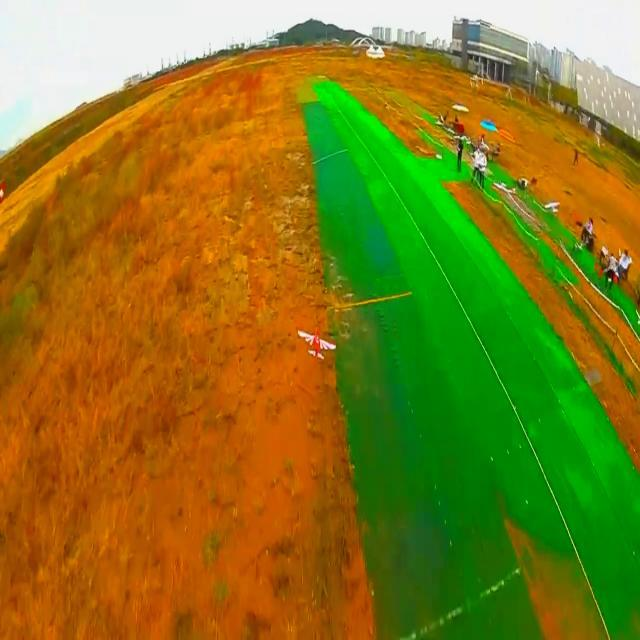iha: (292, 327, 336, 364)
